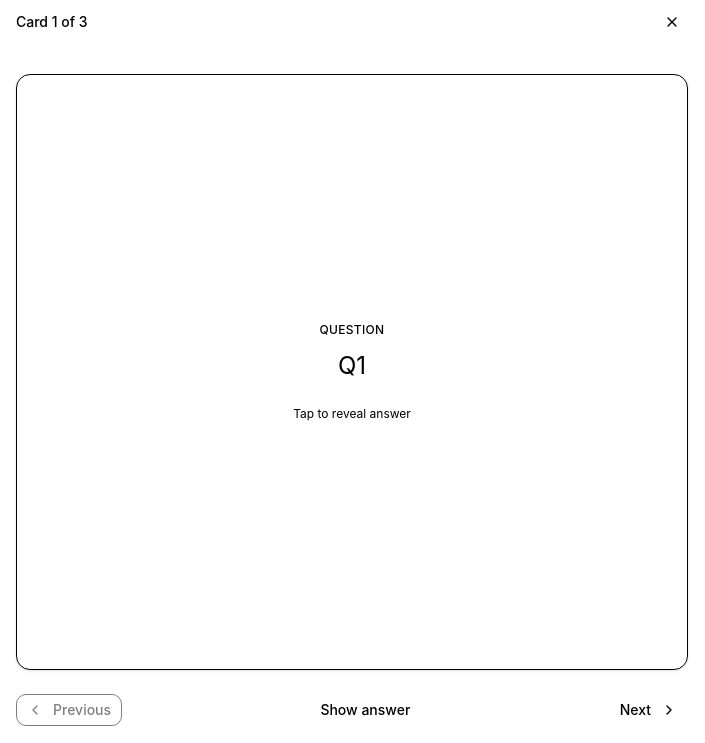
StudyMode › flips to the back when the card is clicked
This screenshot has width=705, height=743.
Expected: the text "Q1" is shown, x1=338 y1=351 x2=366 y2=380
Click the button with aria-label "show answer": coordinates (56, 372) x1=16 y1=74 x2=688 y2=670
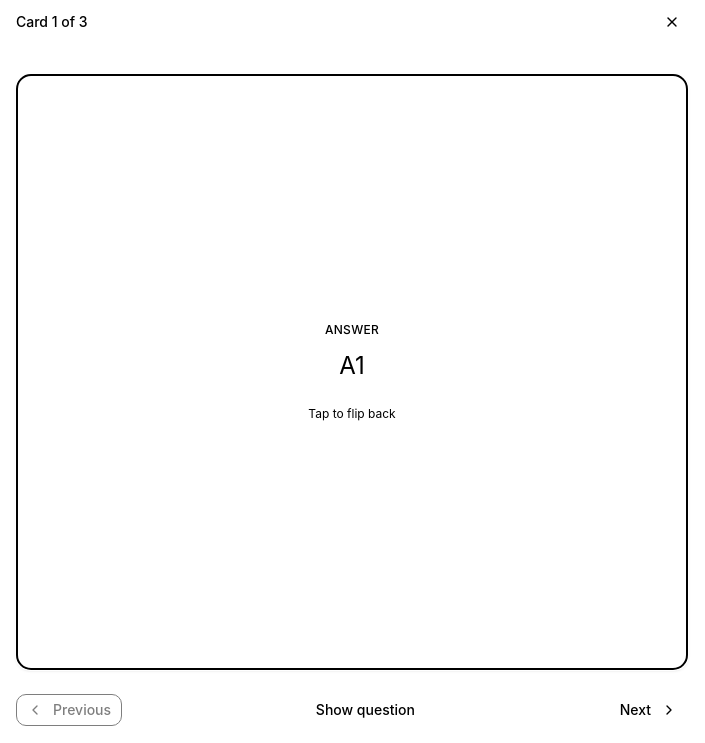
Now the text "A1" is shown, box x1=339 y1=351 x2=365 y2=380
Now the text "Answer" is shown, box x1=325 y1=322 x2=379 y2=338
